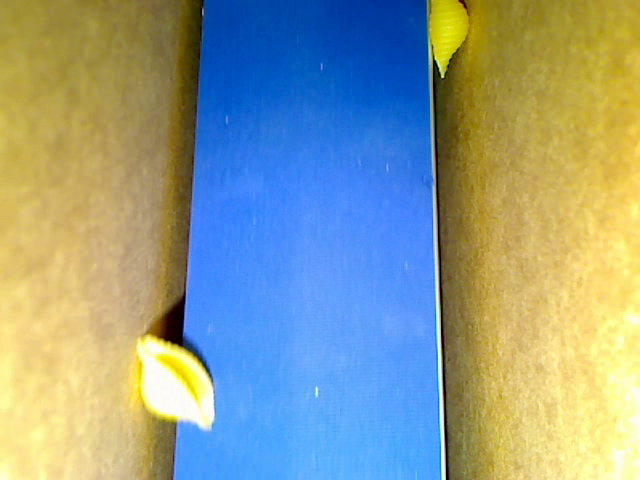shell: (134, 340, 214, 429), (428, 1, 472, 87)
